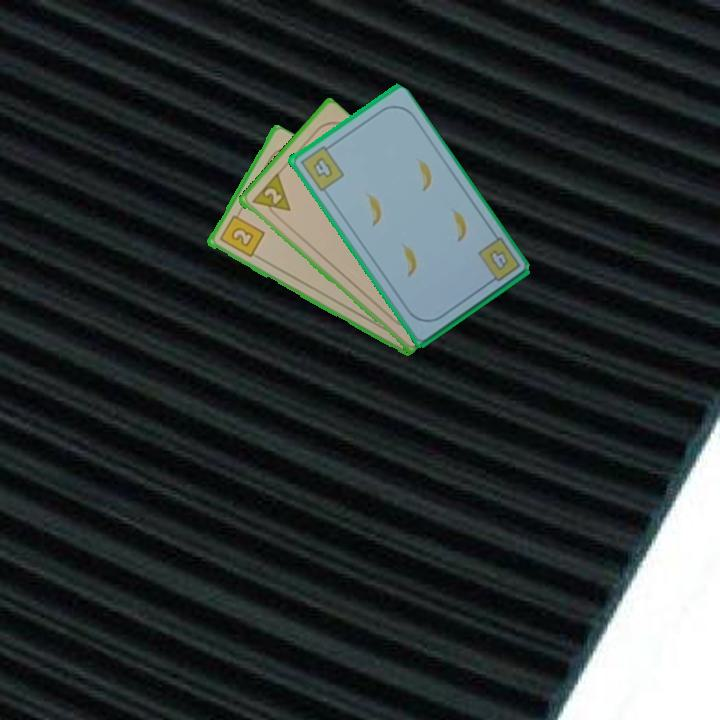2b: (216, 208, 267, 260)
2p: (248, 171, 293, 222)
4b: (296, 140, 346, 194), (474, 234, 523, 288)
